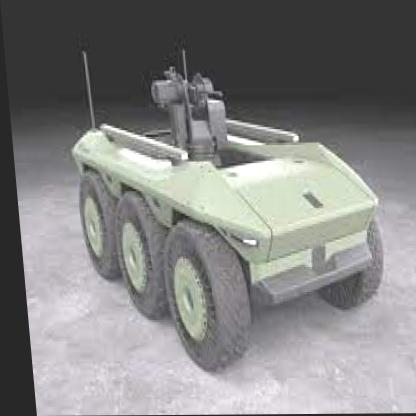UGV: (62, 49, 387, 370)
